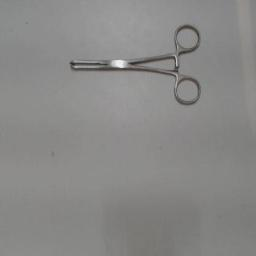Allis Tissue Forceps: (64, 24, 204, 114)
